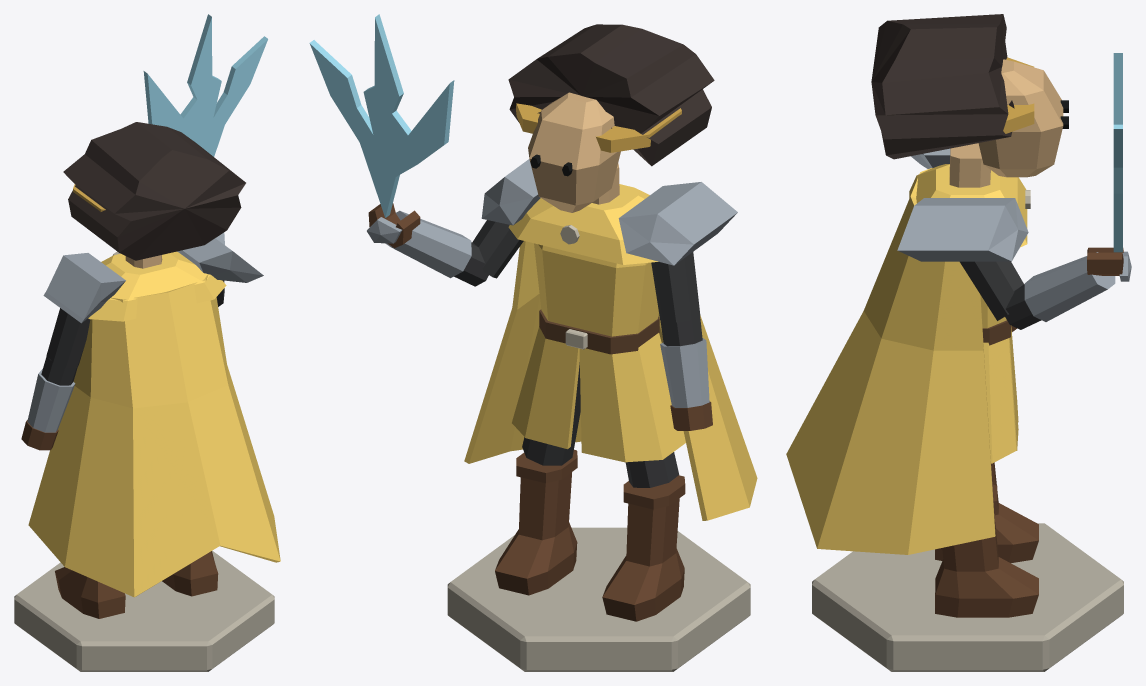
The model's file is human_stormcaller_t6.glb.
The picture shows the model from 3 angles, left to right: view 1: azimuth 30°, elevation 25°; view 2: azimuth 150°, elevation 25°; view 3: azimuth 270°, elevation 25°; orthographic projection. The views are drawn at different scales.
Visible parts, largest first — view 1: Storm_Long_Two_Point_Cape, Foundation_Hexagonal_Stone, storm_one_connected_swept_back_hair, storm_one_three_prong_lightning, Continuous_Shoulder_Mantle, storm_left_shoulder_plate, Boot_-1, storm_right_shoulder_plate, left_bracer, left_upper_sleeve, Boot_1, left_glove_mitten (+1 smaller); view 2: Foundation_Hexagonal_Stone, storm_one_connected_swept_back_hair, Storm_Long_Two_Point_Cape, storm_one_three_prong_lightning, Continuous_Tunic_Bodice, Angular_Face, Continuous_Split_Tunic_Skirt, Boot_-1, Boot_1, storm_left_shoulder_plate, Continuous_Shoulder_Mantle, Split_Tunic_Front_1 (+17 smaller); view 3: Storm_Long_Two_Point_Cape, Foundation_Hexagonal_Stone, storm_one_connected_swept_back_hair, storm_right_shoulder_plate, Boot_1, Angular_Face, right_bracer, Continuous_Split_Tunic_Skirt, Continuous_Shoulder_Mantle, Boot_-1, right_upper_sleeve, storm_one_three_prong_lightning (+5 smaller).
Part boxes in pixels (x1=…): Storm_Long_Two_Point_Cape: x1=28, y1=274, x2=280, y2=597; Foundation_Hexagonal_Stone: x1=14, y1=550, x2=274, y2=671; storm_one_connected_swept_back_hair: x1=63, y1=122, x2=245, y2=260; storm_one_three_prong_lightning: x1=143, y1=14, x2=267, y2=156; Continuous_Shoulder_Mantle: x1=88, y1=251, x2=226, y2=321; storm_left_shoulder_plate: x1=43, y1=253, x2=125, y2=323; Boot_-1: x1=55, y1=567, x2=125, y2=618; storm_right_shoulder_plate: x1=177, y1=238, x2=263, y2=282; left_bracer: x1=27, y1=368, x2=75, y2=432; left_upper_sleeve: x1=46, y1=308, x2=90, y2=367; Boot_1: x1=162, y1=551, x2=218, y2=596; left_glove_mitten: x1=21, y1=420, x2=58, y2=450; Foundation_Hexagonal_Stone: x1=447, y1=527, x2=750, y2=671; storm_one_connected_swept_back_hair: x1=508, y1=24, x2=714, y2=166; Storm_Long_Two_Point_Cape: x1=464, y1=241, x2=757, y2=520; storm_one_three_prong_lightning: x1=309, y1=14, x2=454, y2=217; Continuous_Tunic_Bodice: x1=534, y1=243, x2=658, y2=336; Angular_Face: x1=528, y1=92, x2=620, y2=212; Continuous_Split_Tunic_Skirt: x1=512, y1=326, x2=685, y2=462; Boot_-1: x1=602, y1=498, x2=684, y2=621; Boot_1: x1=495, y1=472, x2=577, y2=595; storm_left_shoulder_plate: x1=618, y1=182, x2=737, y2=265; Continuous_Shoulder_Mantle: x1=508, y1=184, x2=658, y2=264; Split_Tunic_Front_1: x1=525, y1=338, x2=579, y2=449; Storm_Long_Two_Point_Cape: x1=786, y1=168, x2=995, y2=554; Foundation_Hexagonal_Stone: x1=812, y1=523, x2=1123, y2=671; storm_one_connected_swept_back_hair: x1=871, y1=14, x2=1014, y2=159; storm_right_shoulder_plate: x1=897, y1=198, x2=1028, y2=261; Boot_1: x1=935, y1=512, x2=1038, y2=617; Angular_Face: x1=978, y1=59, x2=1063, y2=177; right_bracer: x1=1024, y1=252, x2=1115, y2=321; Continuous_Split_Tunic_Skirt: x1=983, y1=338, x2=1016, y2=463; Continuous_Shoulder_Mantle: x1=909, y1=164, x2=1027, y2=247; Boot_-1: x1=935, y1=462, x2=1038, y2=562; right_upper_sleeve: x1=960, y1=261, x2=1023, y2=320; storm_one_three_prong_lightning: x1=1113, y1=53, x2=1122, y2=252.
Size of the model in its own units: 1.2 by 2.09 by 1.03.
